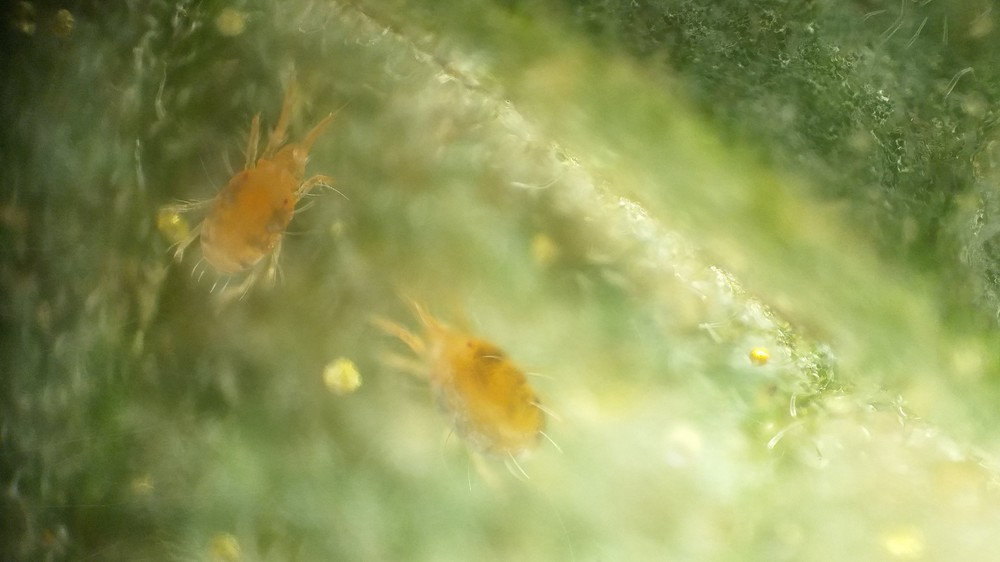Aracnido Rojo: (364, 280, 577, 507), (163, 76, 353, 311)
